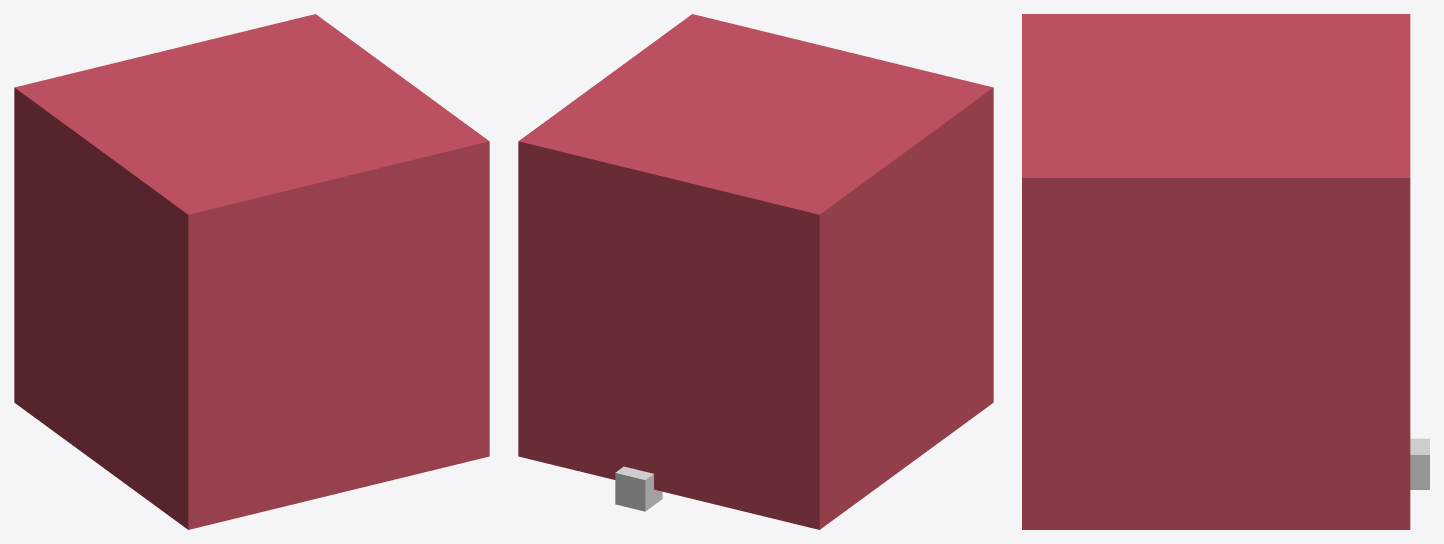
3 renders of one model, left to right at view 1: azimuth 30°, elevation 25°; view 2: azimuth 150°, elevation 25°; view 3: azimuth 270°, elevation 25°, orthographic. The views are drawn at different scales.
Visible parts, largest first — view 1: Mesh_Mesh_head_geo.001_lambert2SG.001; view 2: Mesh_Mesh_head_geo.001_lambert2SG.001, Cube; view 3: Mesh_Mesh_head_geo.001_lambert2SG.001, Cube.
Part boxes in pixels (left/top/right/bottom): Mesh_Mesh_head_geo.001_lambert2SG.001: left=14, top=14, right=489, bottom=529; Mesh_Mesh_head_geo.001_lambert2SG.001: left=518, top=14, right=993, bottom=529; Cube: left=615, top=466, right=662, bottom=511; Mesh_Mesh_head_geo.001_lambert2SG.001: left=1022, top=14, right=1410, bottom=529; Cube: left=1410, top=438, right=1429, bottom=489.
Size of the model in its own units: 20 by 21 by 21.
